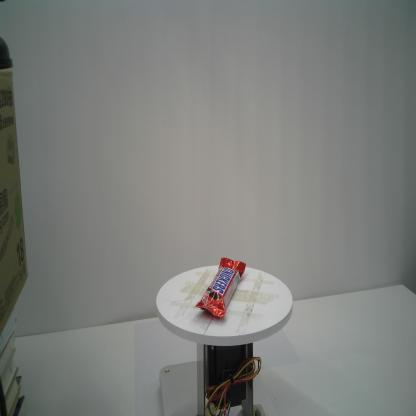Chocolate: (191, 256, 247, 320)
